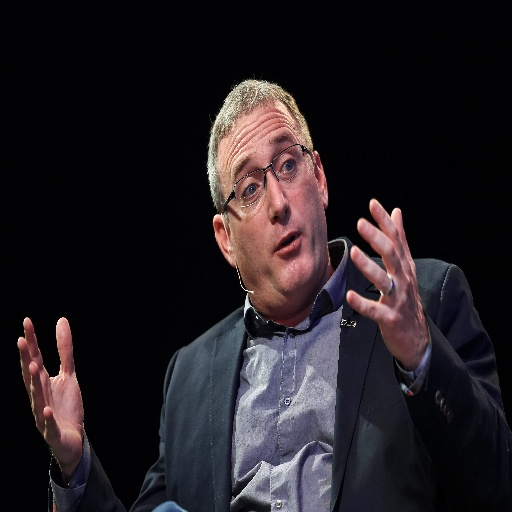hand: (345, 196, 429, 370), (17, 316, 85, 475)
